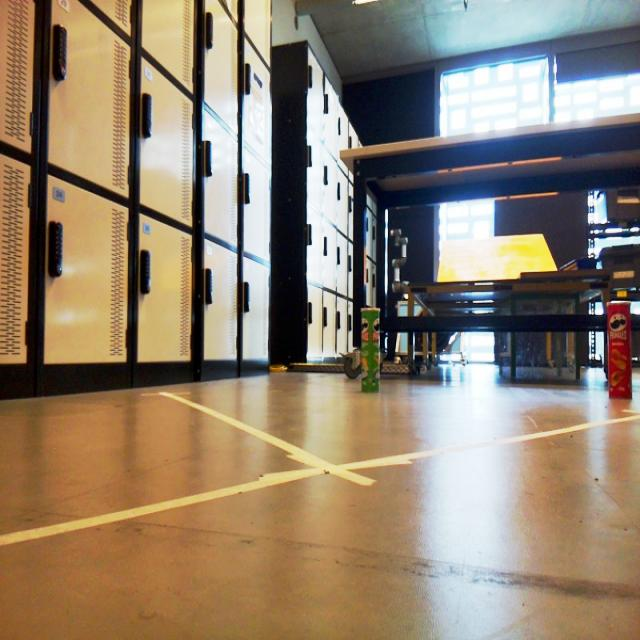greenpringles: (356, 296, 384, 399)
redpringles: (595, 287, 640, 410)
